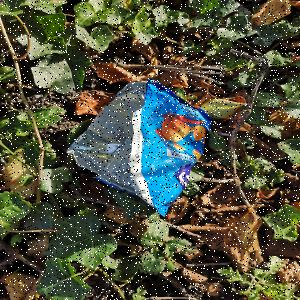Trash: (65, 77, 216, 221)
